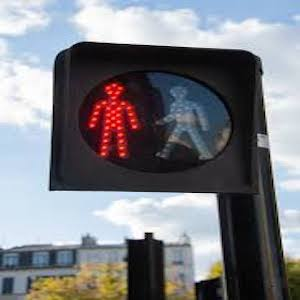red: (85, 80, 140, 161)
